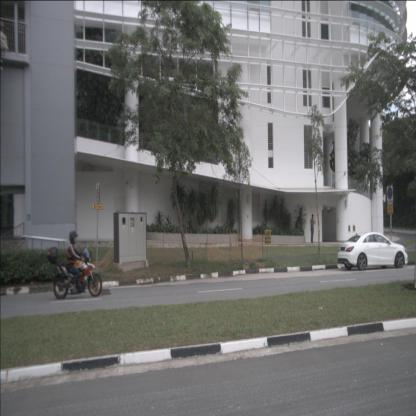human-pedestrian-adult: (309, 213, 316, 246)
vehicle-car: (337, 231, 408, 271)
vehicle-motorcycle: (46, 231, 102, 300)
